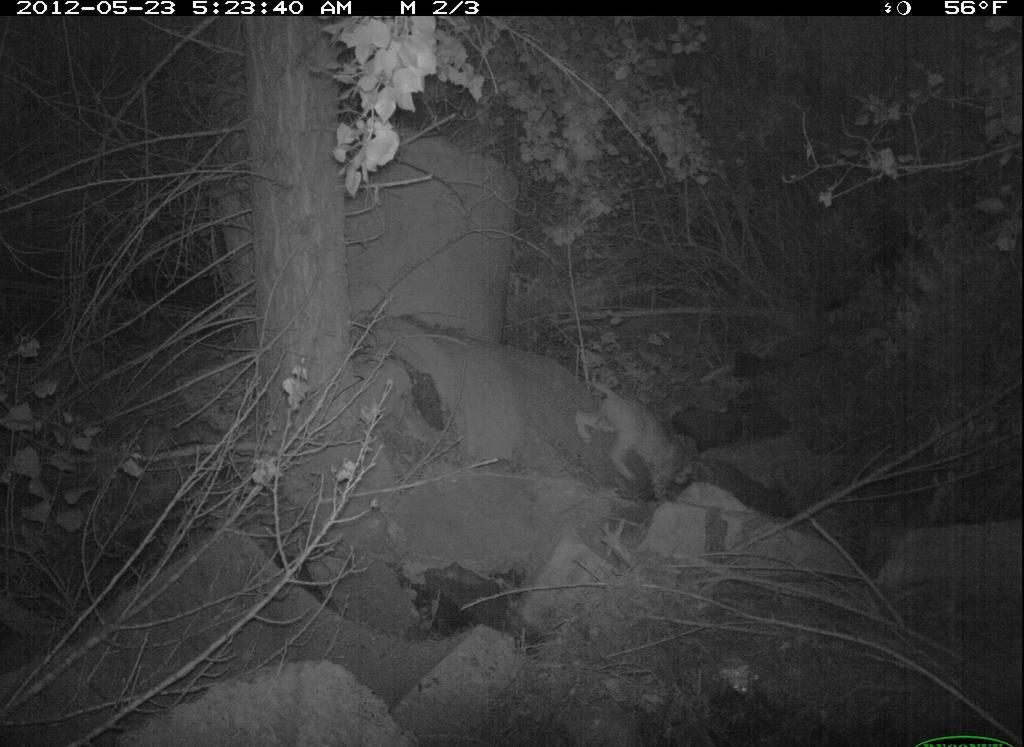bobcat: (565, 358, 717, 516)
